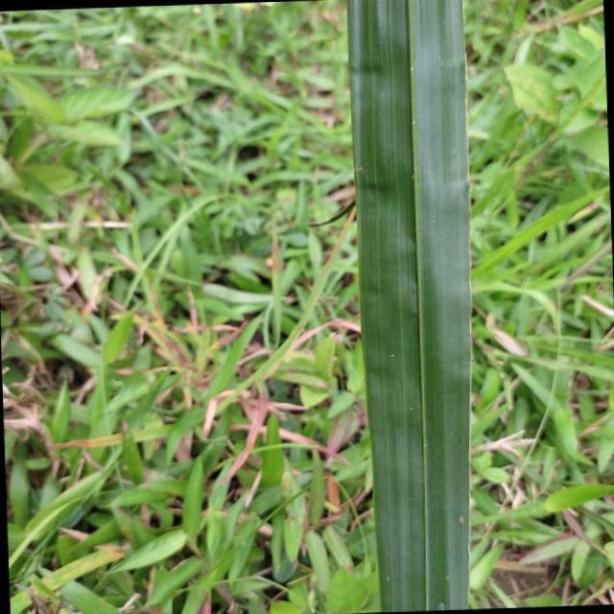Boron: (347, 0, 473, 614)
